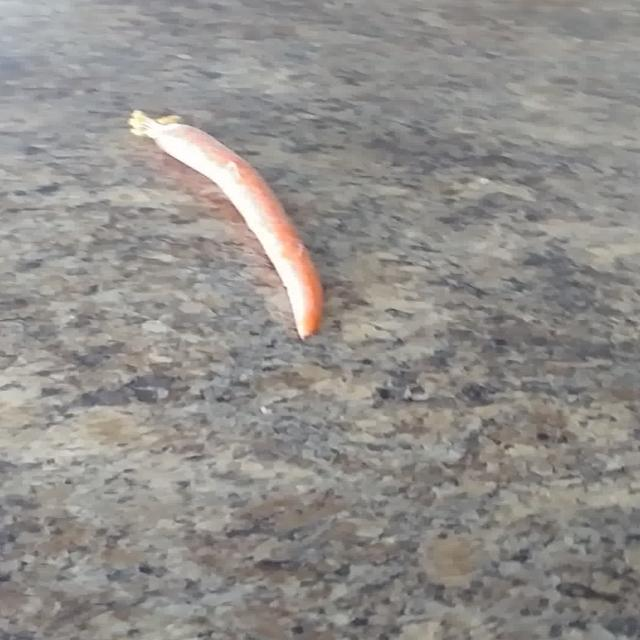carrot: (129, 110, 323, 339)
